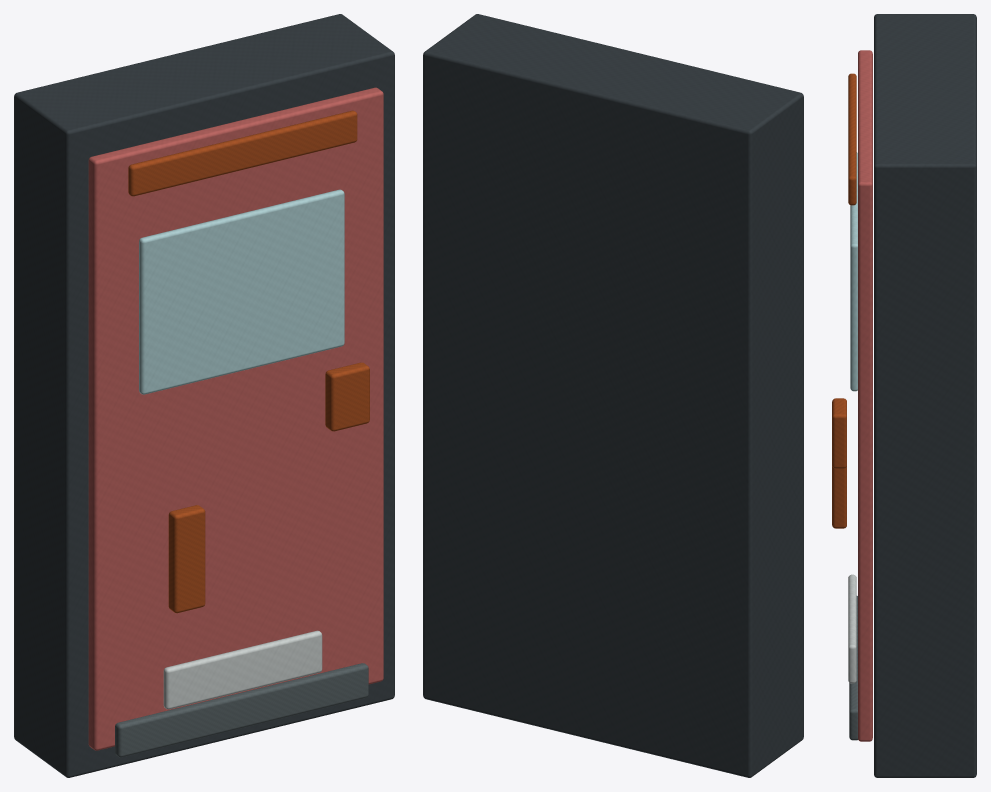
The model's file is FireBlanketCabinet.fbx.
3 views of the same model, side by side, from view 1: azimuth 30°, elevation 25°; view 2: azimuth 150°, elevation 25°; view 3: azimuth 270°, elevation 25° (orthographic). The views are drawn at different scales.
Parts seen in each view (by area): view 1: FireBlanketCabinet_Mesh; view 2: FireBlanketCabinet_Mesh; view 3: FireBlanketCabinet_Mesh.
Boxes of the visible parts, left/top/right/bottom form: FireBlanketCabinet_Mesh: left=14, top=14, right=394, bottom=777; FireBlanketCabinet_Mesh: left=423, top=14, right=803, bottom=777; FireBlanketCabinet_Mesh: left=832, top=14, right=976, bottom=777.
Bounding box in the file's own units: 84 × 158 × 33.75.
